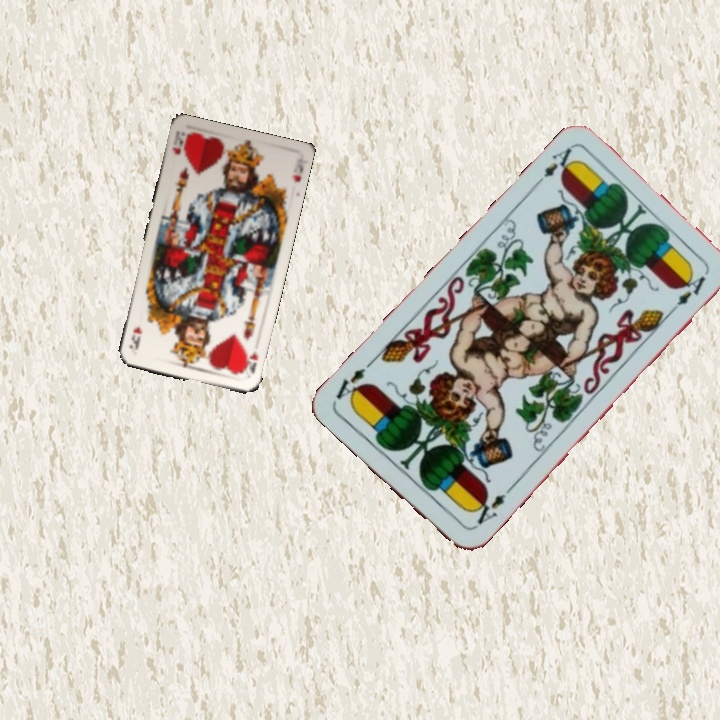EA: (529, 143, 579, 190), (467, 484, 514, 527)
HK: (238, 347, 261, 376), (167, 128, 190, 157)
